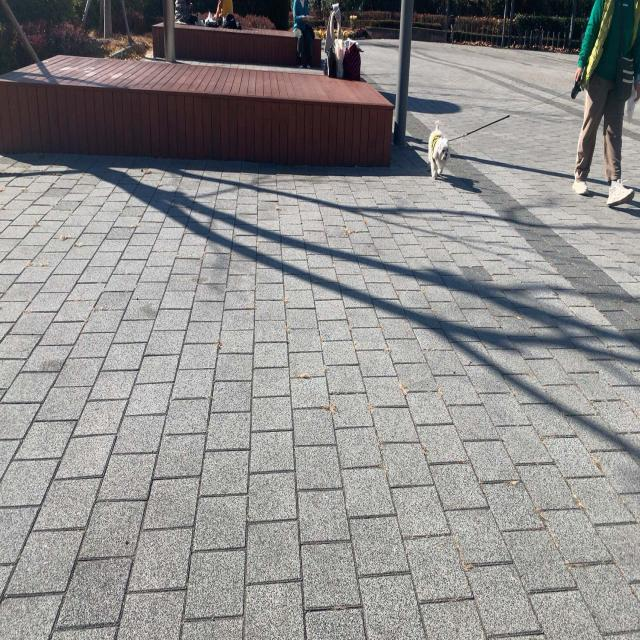Leashed_Dog: (426, 70, 599, 181)
